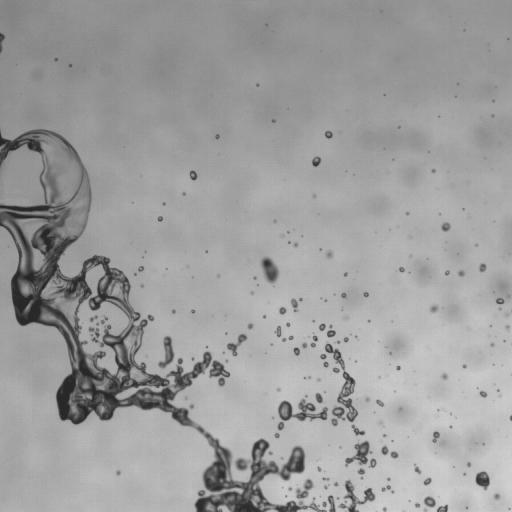droplet: (345, 441, 376, 477), (260, 256, 279, 285), (227, 333, 246, 356), (475, 471, 490, 490), (423, 496, 435, 511), (326, 325, 335, 337), (312, 156, 321, 166), (314, 392, 322, 403), (381, 485, 393, 492), (436, 504, 448, 511), (441, 222, 450, 231), (189, 170, 197, 180), (432, 431, 439, 442), (429, 304, 438, 312), (275, 326, 281, 337), (278, 306, 286, 314), (423, 477, 431, 485), (414, 464, 421, 473), (326, 250, 333, 258), (479, 263, 486, 271), (293, 347, 300, 355), (325, 131, 332, 138), (318, 323, 325, 330), (376, 399, 383, 406), (496, 298, 504, 304), (90, 315, 97, 321), (301, 342, 308, 348), (479, 391, 486, 397), (458, 270, 464, 276), (247, 323, 253, 329), (441, 373, 447, 379), (494, 493, 499, 500), (398, 267, 404, 272), (138, 266, 143, 271), (341, 293, 346, 298), (158, 216, 162, 221), (293, 242, 297, 247), (445, 270, 449, 275), (363, 292, 368, 296), (505, 325, 509, 330), (288, 336, 293, 340), (274, 433, 279, 437), (116, 470, 120, 475), (344, 337, 348, 341), (396, 366, 400, 370), (365, 397, 369, 401), (189, 404, 193, 408), (317, 467, 321, 471), (415, 503, 419, 507), (382, 507, 386, 511), (323, 477, 328, 480), (215, 135, 219, 138), (286, 322, 289, 326), (282, 338, 286, 341), (463, 364, 466, 368), (379, 421, 382, 425), (467, 462, 470, 466), (334, 482, 337, 486), (324, 485, 328, 488), (288, 487, 292, 490), (509, 415, 511, 420), (191, 310, 194, 313), (263, 315, 266, 318), (344, 316, 347, 319), (336, 340, 339, 343), (490, 343, 493, 346), (277, 388, 280, 391), (432, 169, 434, 172), (344, 273, 347, 275), (254, 276, 256, 279), (172, 310, 175, 312), (506, 313, 508, 316), (383, 434, 385, 437), (183, 192, 185, 194), (313, 195, 315, 197), (251, 292, 253, 294), (299, 298, 301, 300), (307, 376, 309, 378), (317, 378, 319, 380)
ligament: (0, 130, 375, 511), (325, 342, 357, 426), (277, 396, 327, 430), (158, 336, 174, 368), (381, 445, 398, 458), (351, 424, 365, 435), (310, 334, 318, 347), (320, 354, 328, 367), (291, 298, 298, 311), (0, 32, 4, 52), (99, 316, 107, 324)
